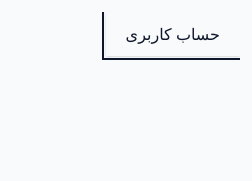
Test case: DropdownMenu › opens from the keyboard, runs the chosen item and closes
The width and height of the screenshot is (252, 181).
Press Enter
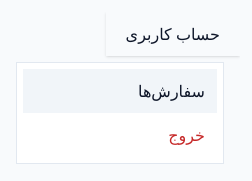
Expected: the number of menu items is 2
Click the menu item "سفارش‌ها" at (120,91), box [23,69,217,113]
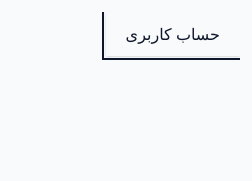
Expected: the menu is gone
